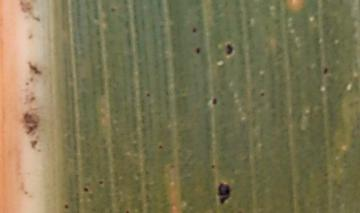tarspot: (17, 1, 41, 23), (22, 111, 39, 136), (216, 182, 232, 204), (26, 59, 41, 77), (224, 42, 234, 56), (28, 139, 38, 150), (210, 96, 218, 107), (62, 203, 71, 211), (109, 6, 117, 15), (28, 95, 37, 103), (26, 32, 34, 41), (82, 185, 90, 193), (194, 46, 201, 55), (144, 92, 153, 99), (96, 179, 105, 186), (322, 67, 329, 75), (258, 91, 266, 98), (209, 163, 216, 171), (23, 80, 30, 88), (157, 143, 164, 150), (191, 27, 197, 34), (124, 208, 131, 213)
